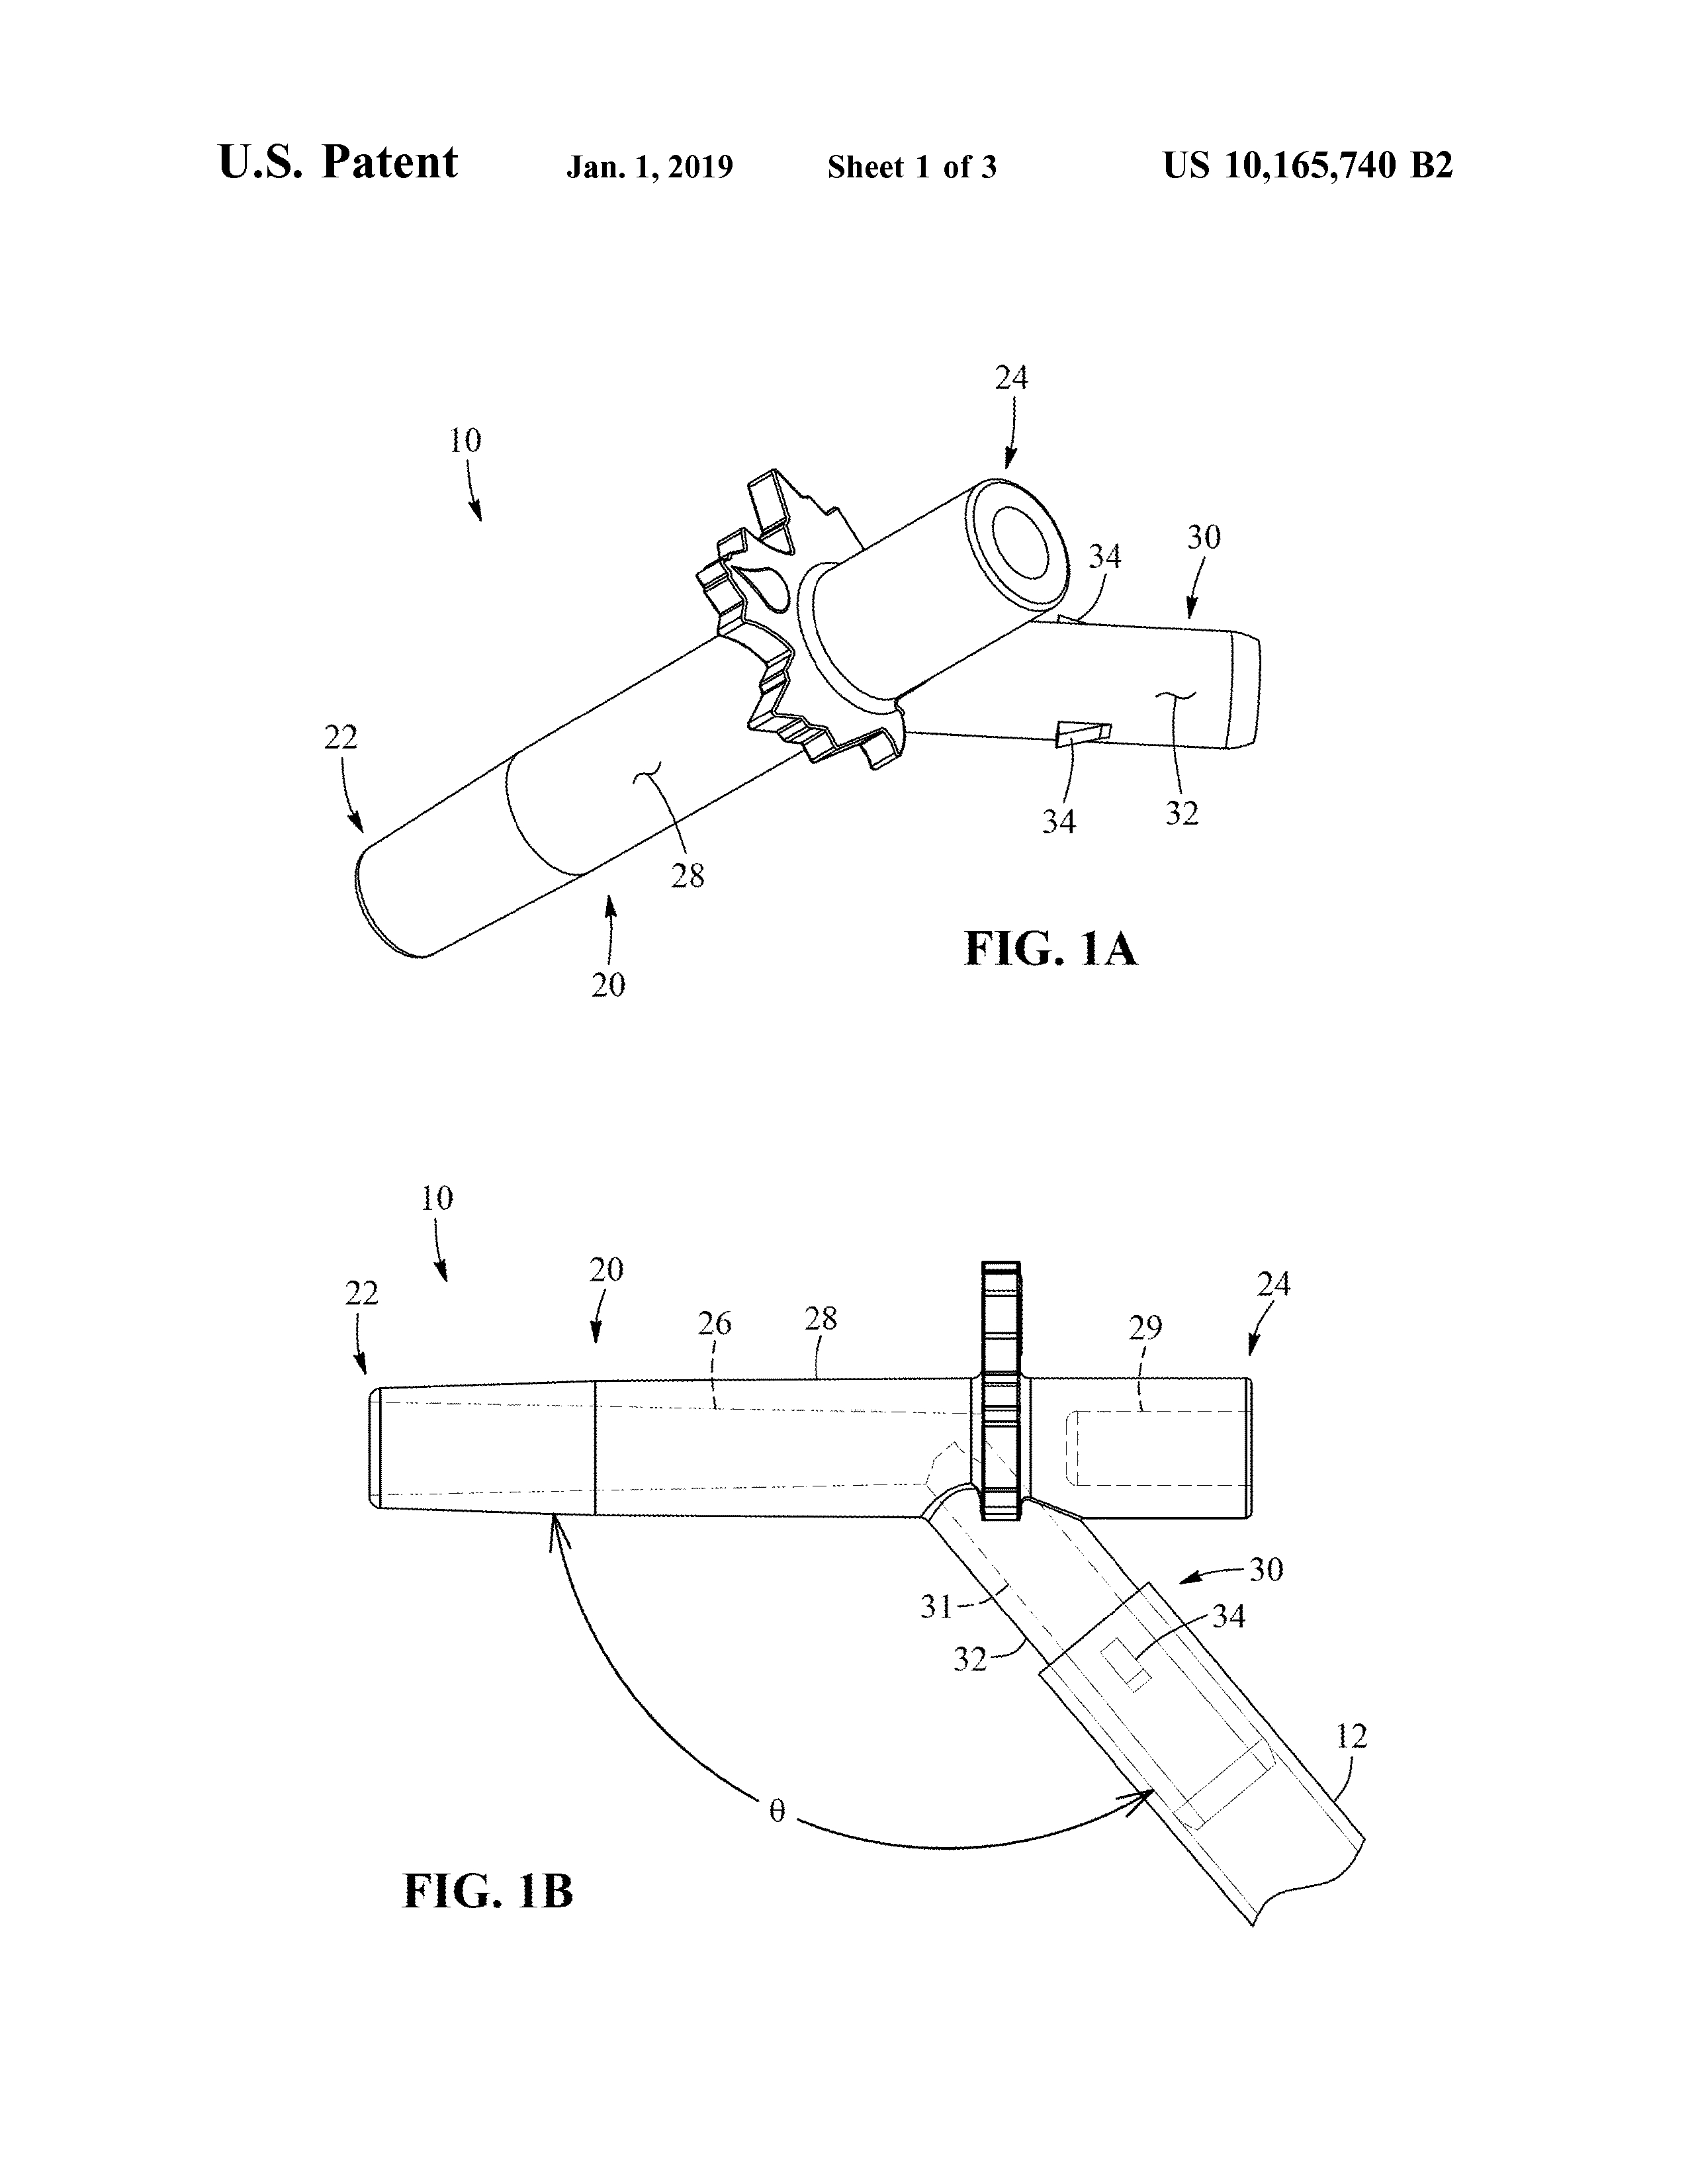patent image: (297, 1147, 1430, 2005), (308, 322, 1292, 1089)
